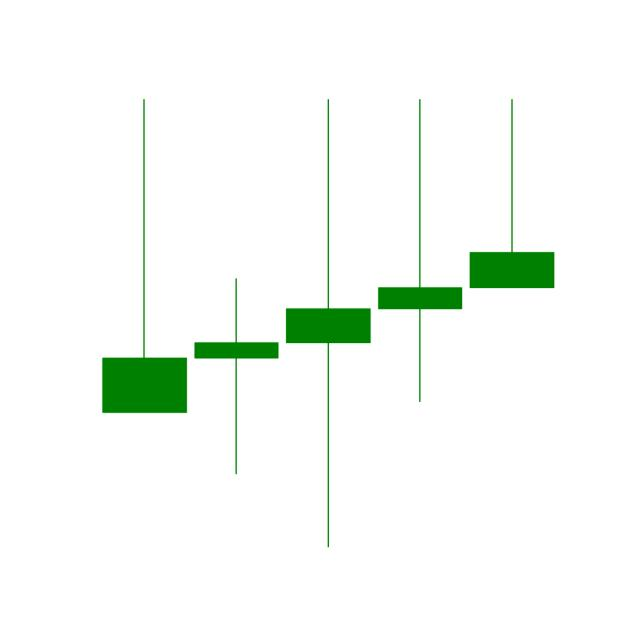High Wave: (285, 97, 373, 544), (373, 95, 467, 405)
Standard Doji: (193, 275, 280, 480)
